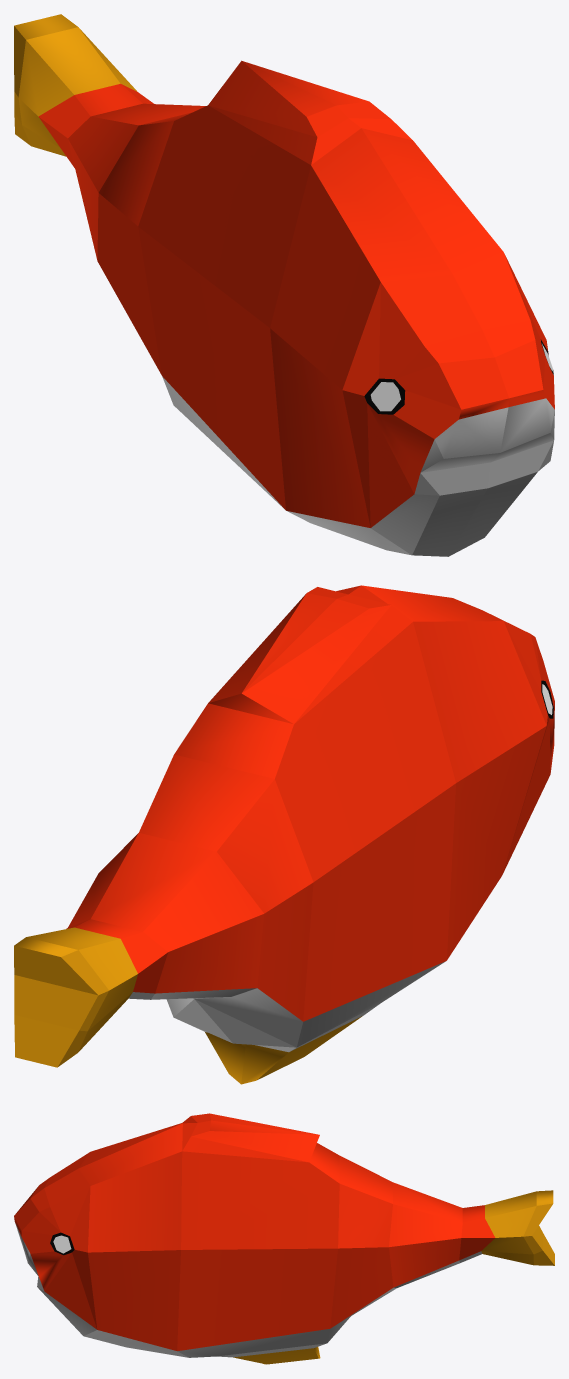
Rendered from Fish-1.fbx.
3 views of the same model, one above another, from view 1: azimuth 30°, elevation 25°; view 2: azimuth 150°, elevation 25°; view 3: azimuth 270°, elevation 25° (orthographic). The views are drawn at different scales.
Visible parts, largest first — view 1: Fish-1; view 2: Fish-1; view 3: Fish-1.
Boxes of the visible parts, bbox=[...] form: Fish-1: bbox=[14, 14, 554, 556]; Fish-1: bbox=[14, 585, 554, 1084]; Fish-1: bbox=[14, 1113, 554, 1364].
Size of the model in its own units: 0.2252 by 0.4485 by 0.9027.
